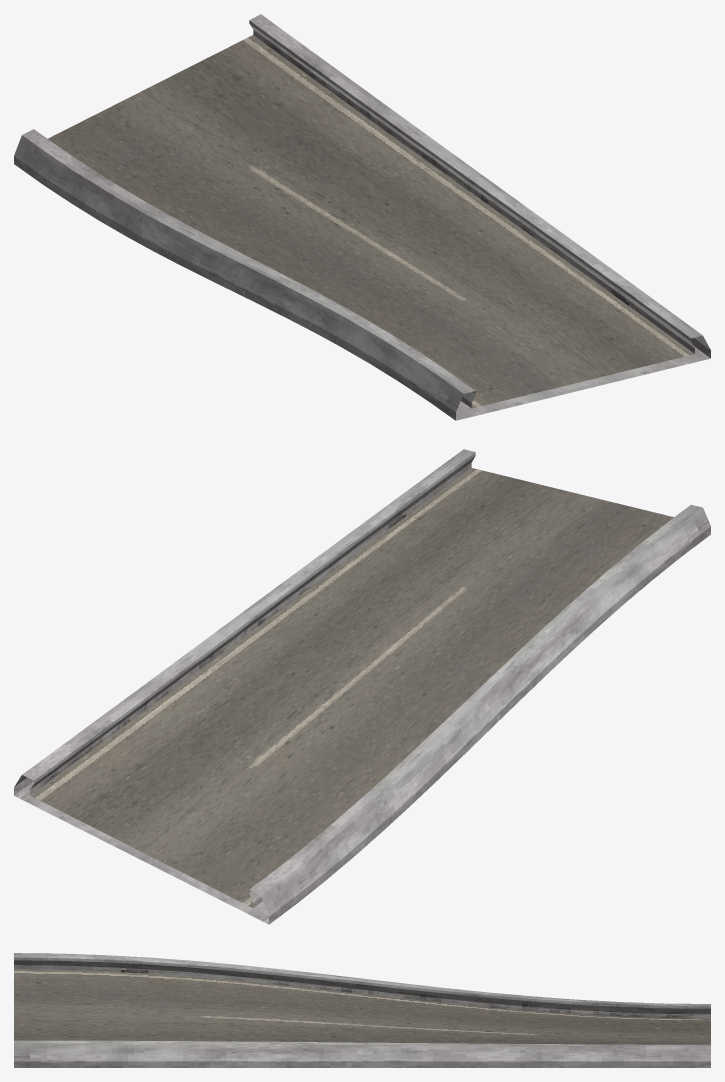
The model's file is straight3.glb.
3 views of the same model, one above another, from view 1: azimuth 30°, elevation 25°; view 2: azimuth 150°, elevation 25°; view 3: azimuth 270°, elevation 25° (orthographic). The views are drawn at different scales.
Visible parts, largest first — view 1: road-Straight-Flat-HalfBankedLeft-Down1-Center-Size3; view 2: road-Straight-Flat-HalfBankedLeft-Down1-Center-Size3; view 3: road-Straight-Flat-HalfBankedLeft-Down1-Center-Size3.
Boxes of the visible parts, left/top/right/bottom form: road-Straight-Flat-HalfBankedLeft-Down1-Center-Size3: left=14, top=14, right=710, bottom=420; road-Straight-Flat-HalfBankedLeft-Down1-Center-Size3: left=14, top=449, right=710, bottom=924; road-Straight-Flat-HalfBankedLeft-Down1-Center-Size3: left=14, top=953, right=710, bottom=1067.
Bounding box in the file's own units: 1 × 0.3438 × 3.
2 materials, 2 textured.
